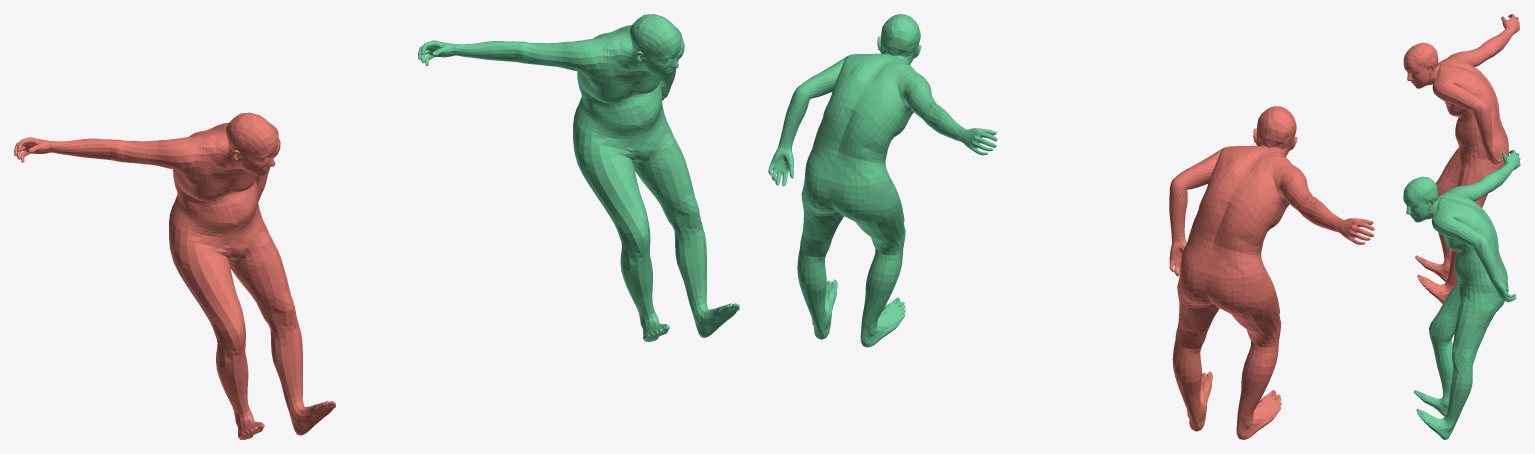
Rendered from pose_368_before_after.glb.
3 views of the same model, side by side, from view 1: azimuth 30°, elevation 25°; view 2: azimuth 150°, elevation 25°; view 3: azimuth 270°, elevation 25° (orthographic). The views are drawn at different scales.
Parts seen in each view (by area): view 1: poseshield_green, input_red; view 2: poseshield_green, input_red; view 3: poseshield_green, input_red.
Part boxes in pixels (x1,y1,x2,y2): poseshield_green: (418, 14, 739, 341); input_red: (14, 112, 335, 439); poseshield_green: (768, 14, 997, 347); input_red: (1169, 106, 1374, 439); poseshield_green: (1403, 150, 1520, 439); input_red: (1403, 14, 1519, 303).
Size of what is drawn, in the model's own units: 2.9 by 1.47 by 0.6527.
